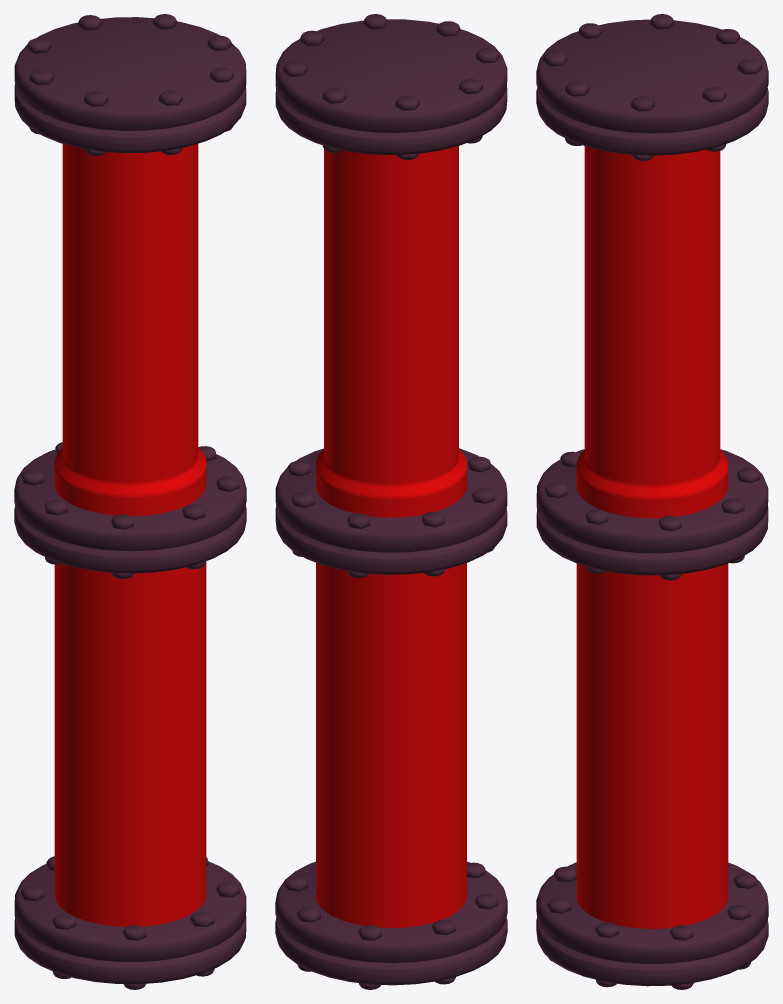
The model's file is LP_M_Pipes_LineMedium.fbx.
The picture shows the model from 3 angles, left to right: view 1: azimuth 30°, elevation 25°; view 2: azimuth 150°, elevation 25°; view 3: azimuth 270°, elevation 25°; orthographic projection.
Parts seen in each view (by area): view 1: LP_M_Pipes_LineMedium; view 2: LP_M_Pipes_LineMedium; view 3: LP_M_Pipes_LineMedium.
Part boxes in pixels (x1=…): LP_M_Pipes_LineMedium: x1=14, y1=14, x2=246, y2=989; LP_M_Pipes_LineMedium: x1=275, y1=14, x2=507, y2=989; LP_M_Pipes_LineMedium: x1=536, y1=14, x2=768, y2=989.
Bounding box in the file's own units: 49.21 × 207 × 49.21.
